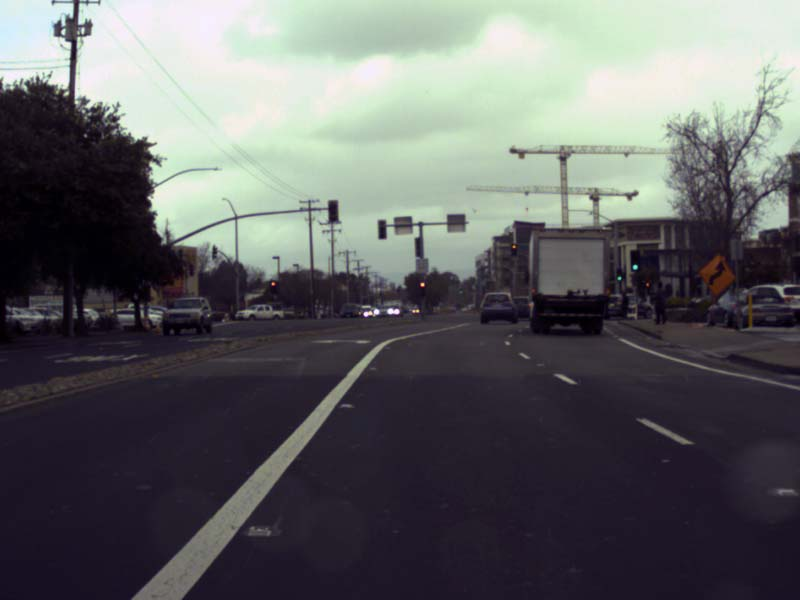Green: (630, 249, 640, 271), (616, 268, 622, 281)
Red: (419, 281, 425, 298), (270, 280, 277, 294), (511, 242, 516, 256)
